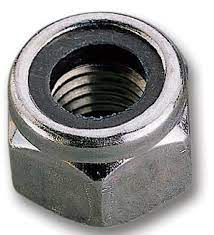Thread: (40, 25, 167, 139)
